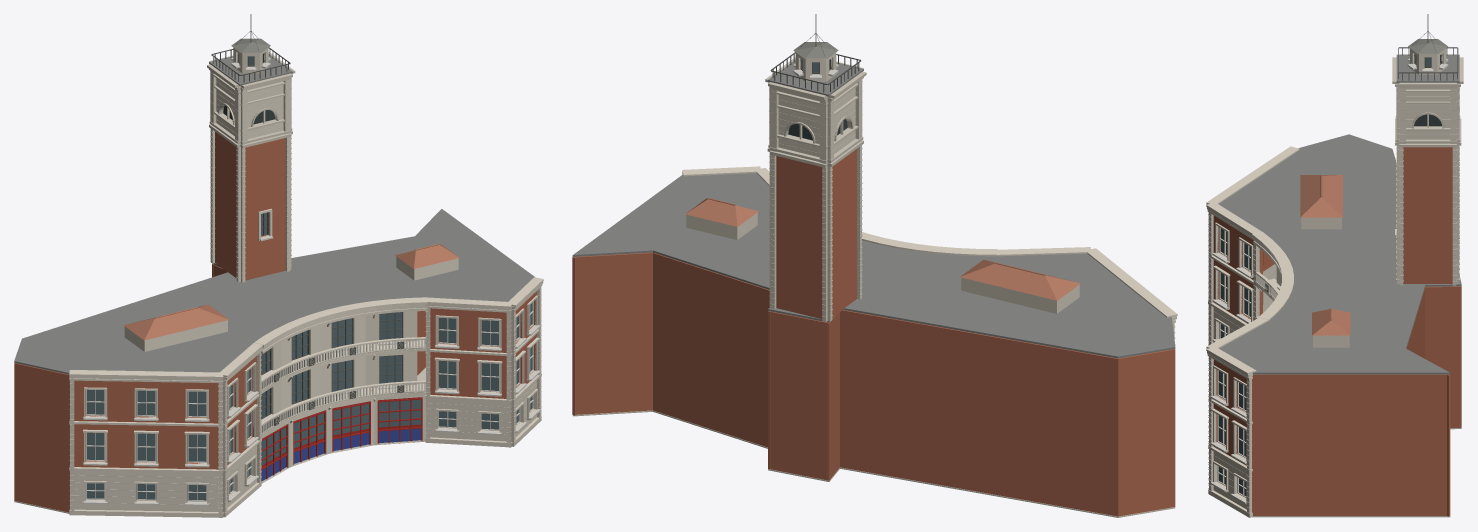
Rendered from hongkou-hongkew-fire-station-lod.glb.
3 renders of one model, left to right at view 1: azimuth 30°, elevation 25°; view 2: azimuth 150°, elevation 25°; view 3: azimuth 270°, elevation 25°, orthographic. The views are drawn at different scales.
Visible parts, largest first — view 1: 虹口救火会临街旧楼与瞭望塔; view 2: 虹口救火会临街旧楼与瞭望塔; view 3: 虹口救火会临街旧楼与瞭望塔.
Part boxes in pixels (x1=…): 虹口救火会临街旧楼与瞭望塔: x1=14, y1=14, x2=543, y2=517; 虹口救火会临街旧楼与瞭望塔: x1=572, y1=14, x2=1177, y2=517; 虹口救火会临街旧楼与瞭望塔: x1=1206, y1=14, x2=1463, y2=517.
Size of the model in its own units: 48.43 by 37.83 by 21.95.
